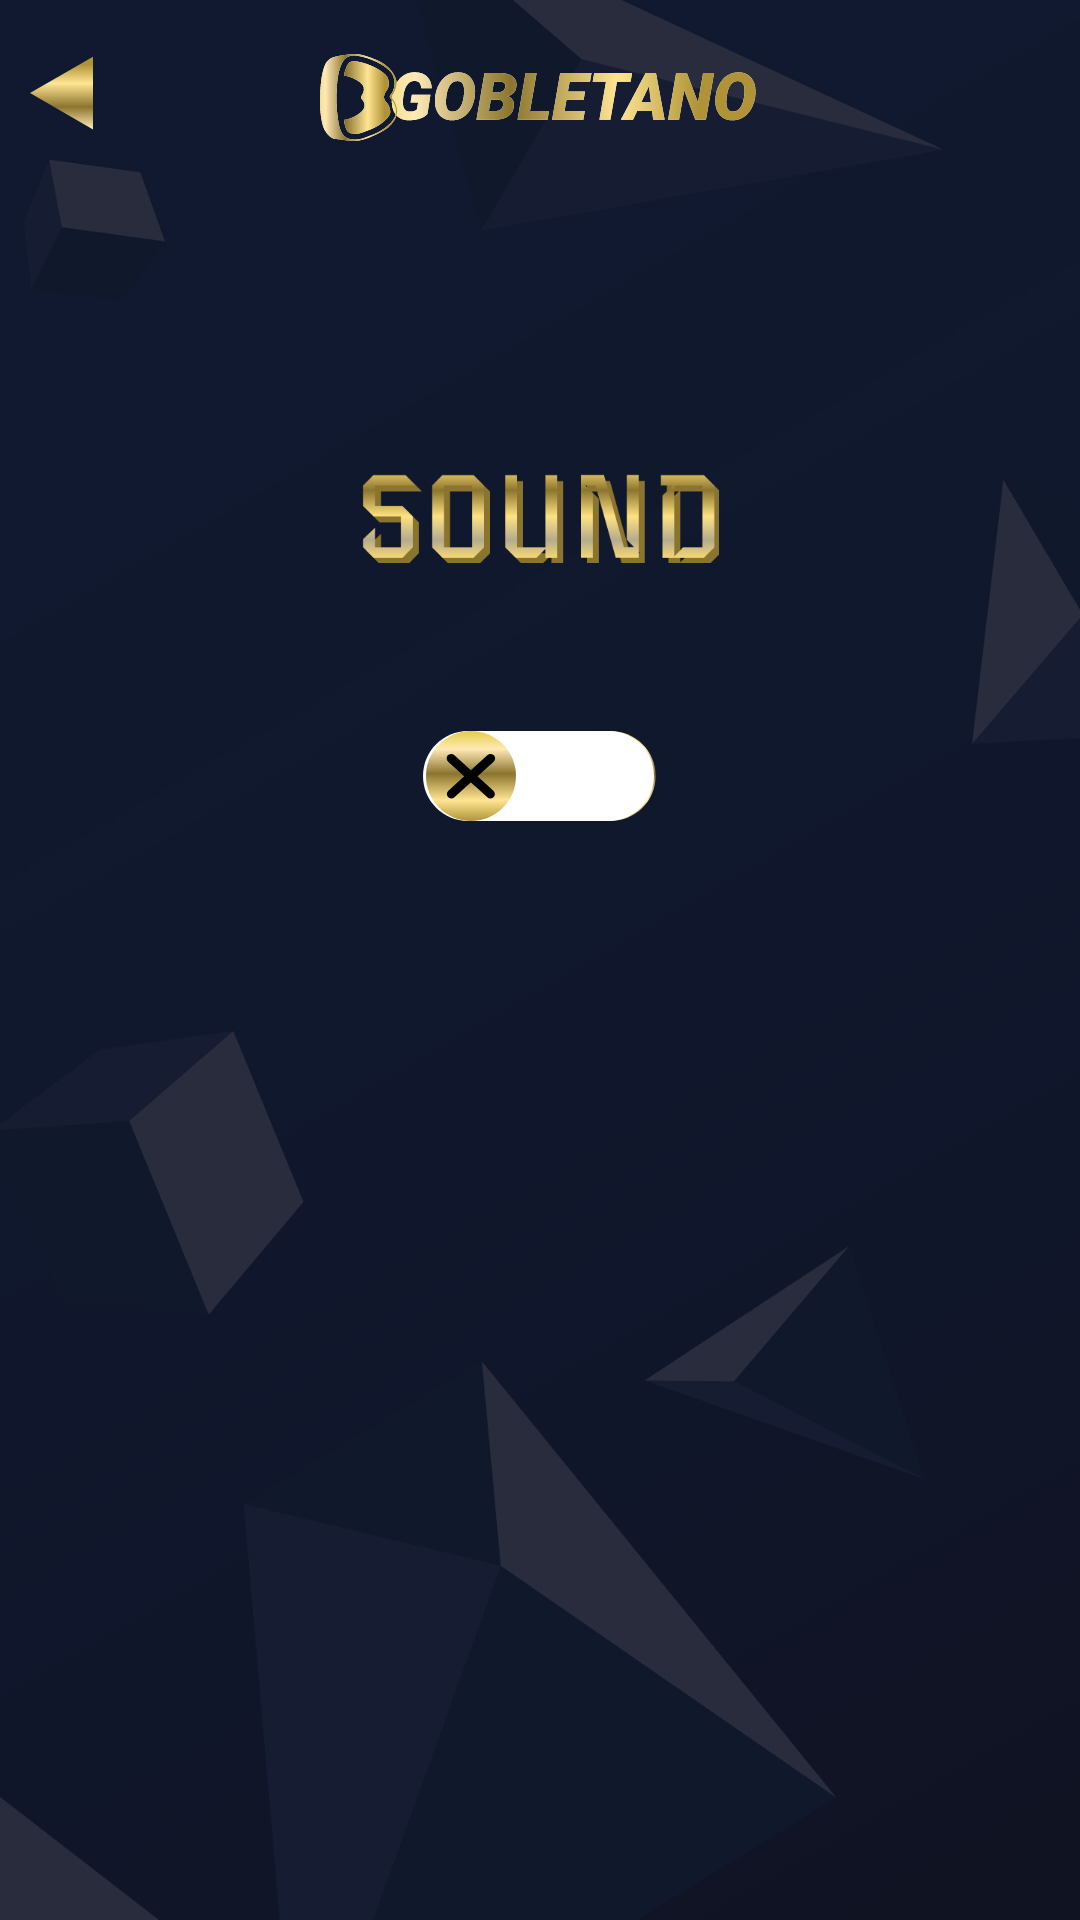

Named icons in this screenshot (1080px x 1920px) and their centers, (x,y):
back: (61,93)
